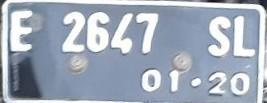2: (61, 8, 87, 56)
4: (110, 11, 136, 56)
6: (86, 9, 110, 56)
7: (134, 10, 162, 58)
E: (10, 9, 37, 55)
L: (232, 14, 258, 60)
S: (206, 14, 232, 58)
